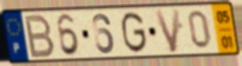0: (186, 9, 214, 51)
6: (56, 12, 81, 58), (91, 13, 116, 56)
B: (24, 13, 57, 60)
G: (120, 10, 149, 55)
V: (152, 7, 182, 55)
